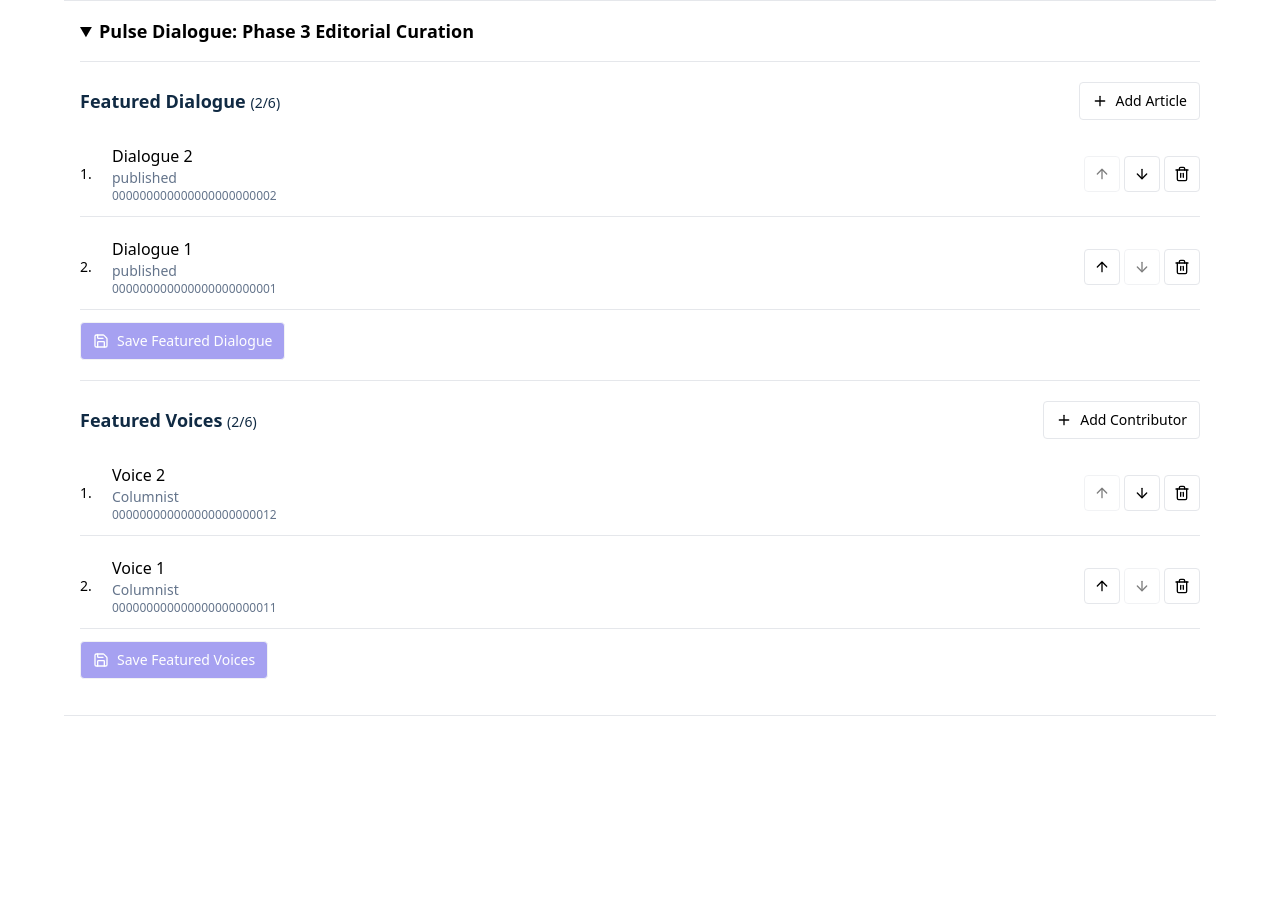
Test: Pulse Dialogue curation UI › loads only when the separate management section is opened and retains state when collapsed
Expected: the text "Dialogue 2" is shown, [112,145,193,167]
Click the button named "Remove Dialogue 2".
click(1182, 174)  # box [1164,156,1200,192]
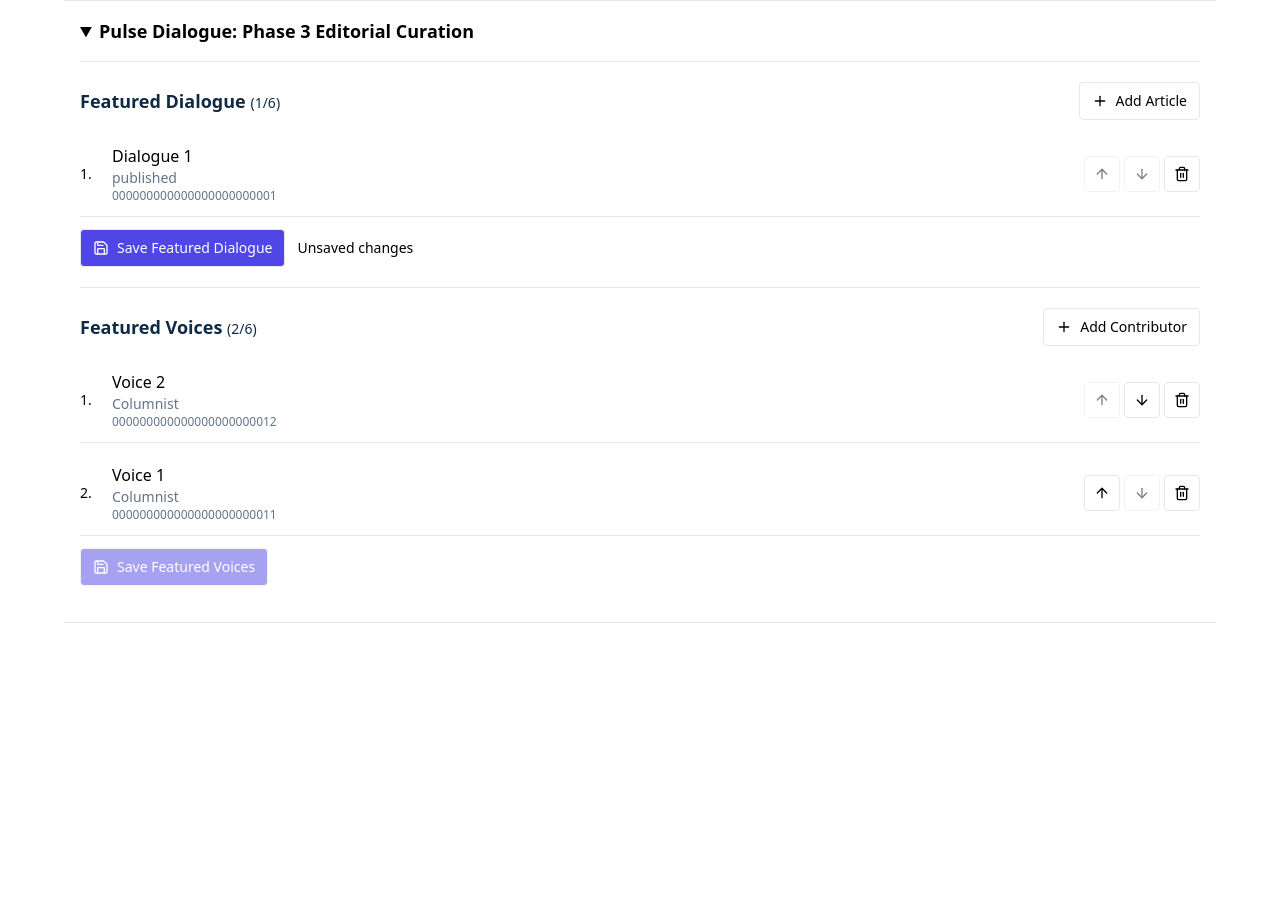
Expected: the text "Dialogue 2" is gone
